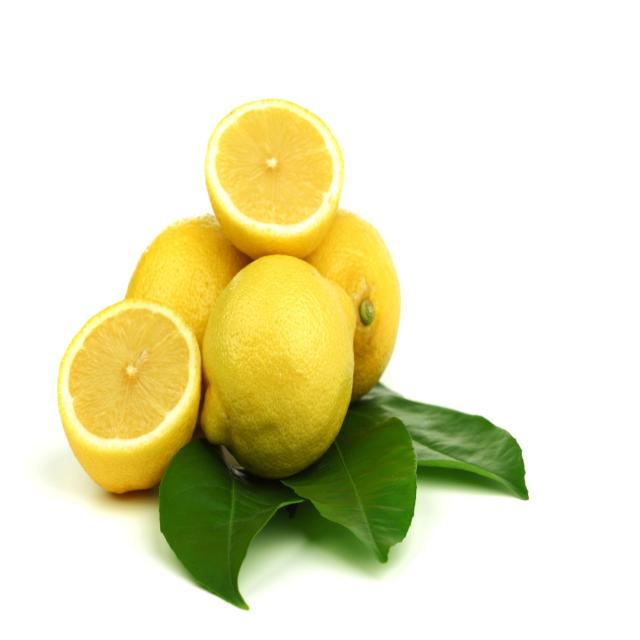lemon: (197, 246, 361, 480), (56, 293, 204, 500), (202, 95, 347, 262)
